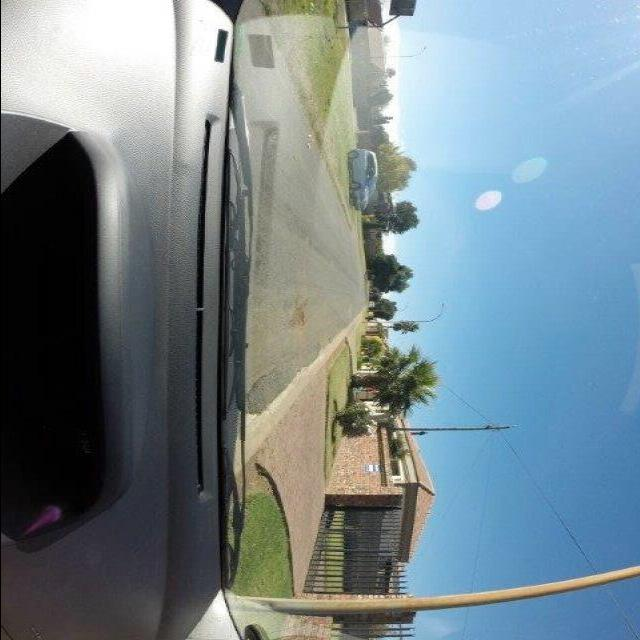lubang: (291, 298, 309, 331)
